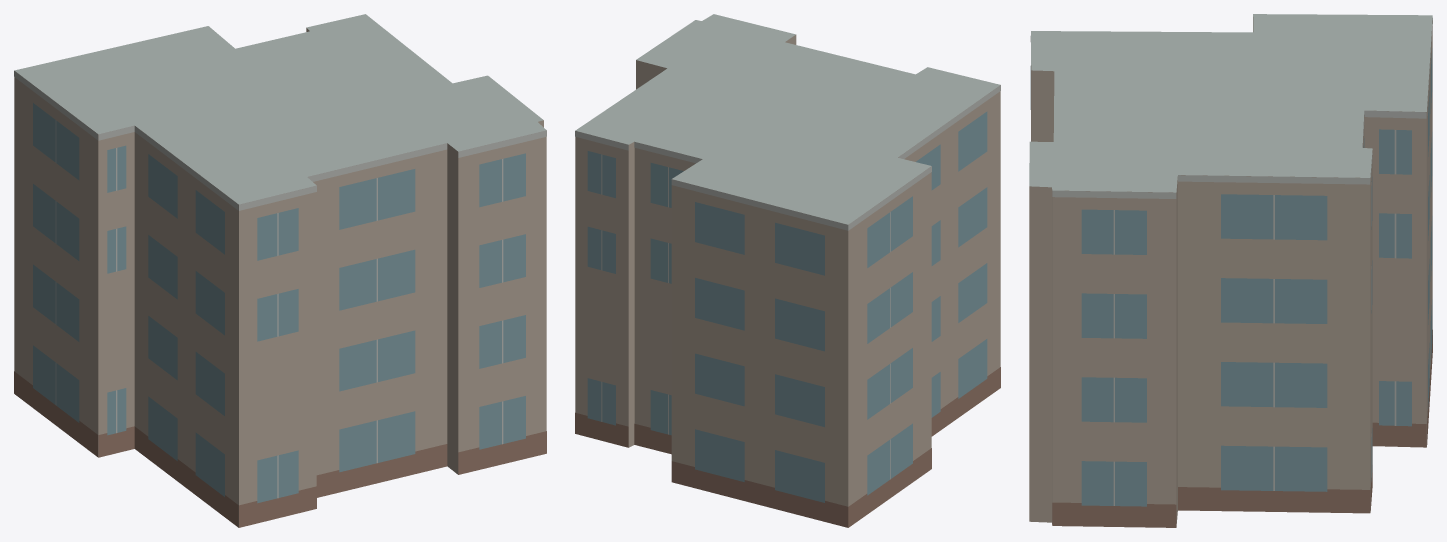
The model's file is survey-upis-32951160.glb.
3 renders of one model, left to right at view 1: azimuth 30°, elevation 25°; view 2: azimuth 150°, elevation 25°; view 3: azimuth 270°, elevation 25°, orthographic. The views are drawn at different scales.
Parts seen in each view (by area): view 1: survey-upis-32951160.tmp; view 2: survey-upis-32951160.tmp; view 3: survey-upis-32951160.tmp.
Boxes of the visible parts, x1,y1,x2,y2 form: survey-upis-32951160.tmp: (14, 14, 546, 527); survey-upis-32951160.tmp: (575, 14, 1000, 527); survey-upis-32951160.tmp: (1029, 14, 1432, 527).
Size of the model in its own units: 14.16 by 12.4 by 13.54.
